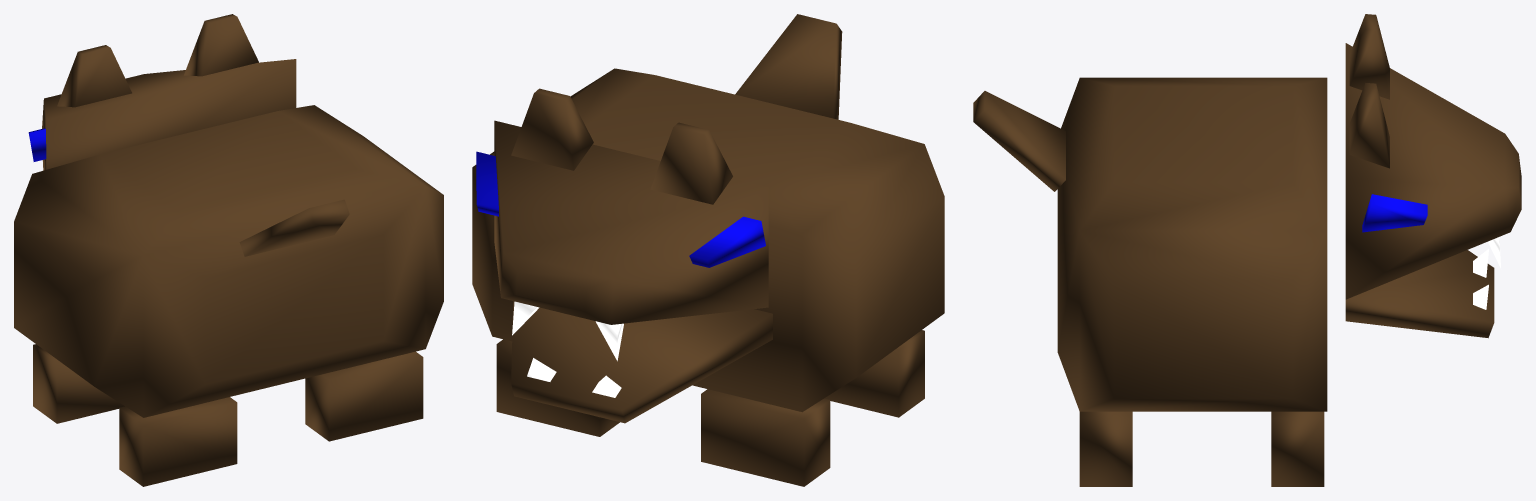
File: dog.glb
3 renders of one model, left to right at view 1: azimuth 30°, elevation 25°; view 2: azimuth 150°, elevation 25°; view 3: azimuth 270°, elevation 25°, orthographic. The views are drawn at different scales.
Parts seen in each view (by area): view 1: louloup.01_(4).003; view 2: louloup.01_(4).003; view 3: louloup.01_(4).003.
Part boxes in pixels (<box>): louloup.01_(4).003: <box>14,14,443,486</box>; louloup.01_(4).003: <box>472,14,944,486</box>; louloup.01_(4).003: <box>973,14,1521,486</box>.
Bounding box in the file's own units: 1.17 × 1.03 × 1.42.
